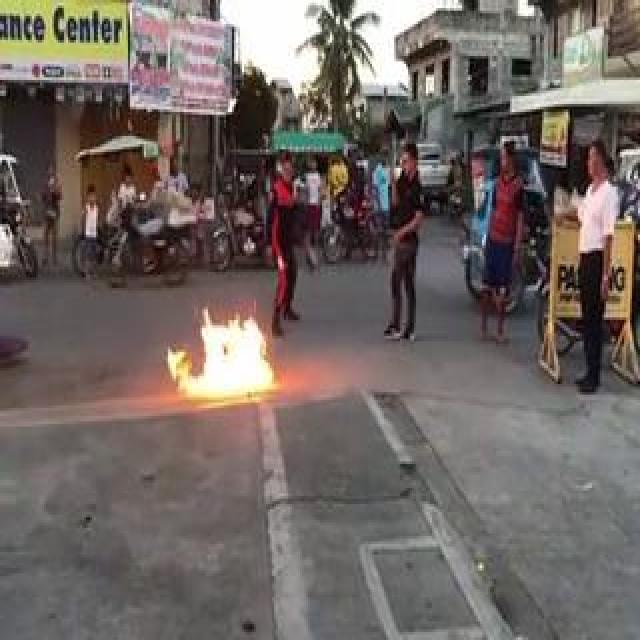Smoke: (163, 315, 277, 403)
